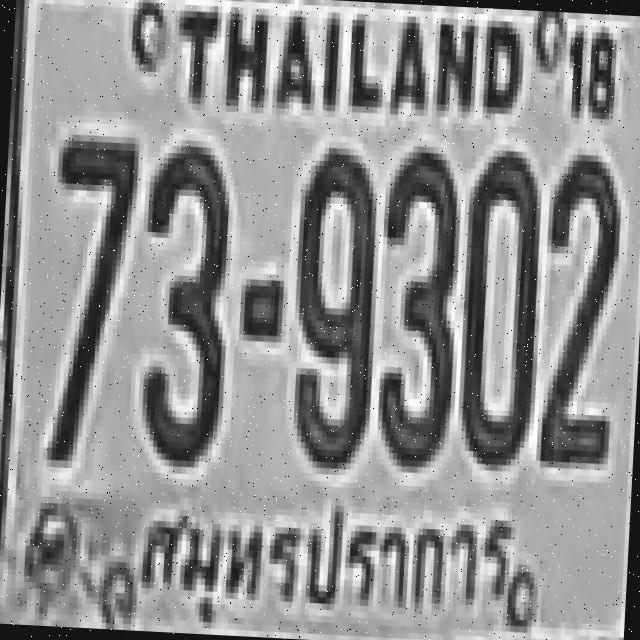0: (456, 146, 544, 464)
2: (534, 162, 622, 462), (538, 150, 624, 430)
3: (133, 138, 234, 462), (372, 144, 464, 468)
7: (41, 130, 138, 454), (48, 134, 136, 365)
9: (287, 140, 380, 464)
SamutPrakan: (130, 488, 532, 630)
